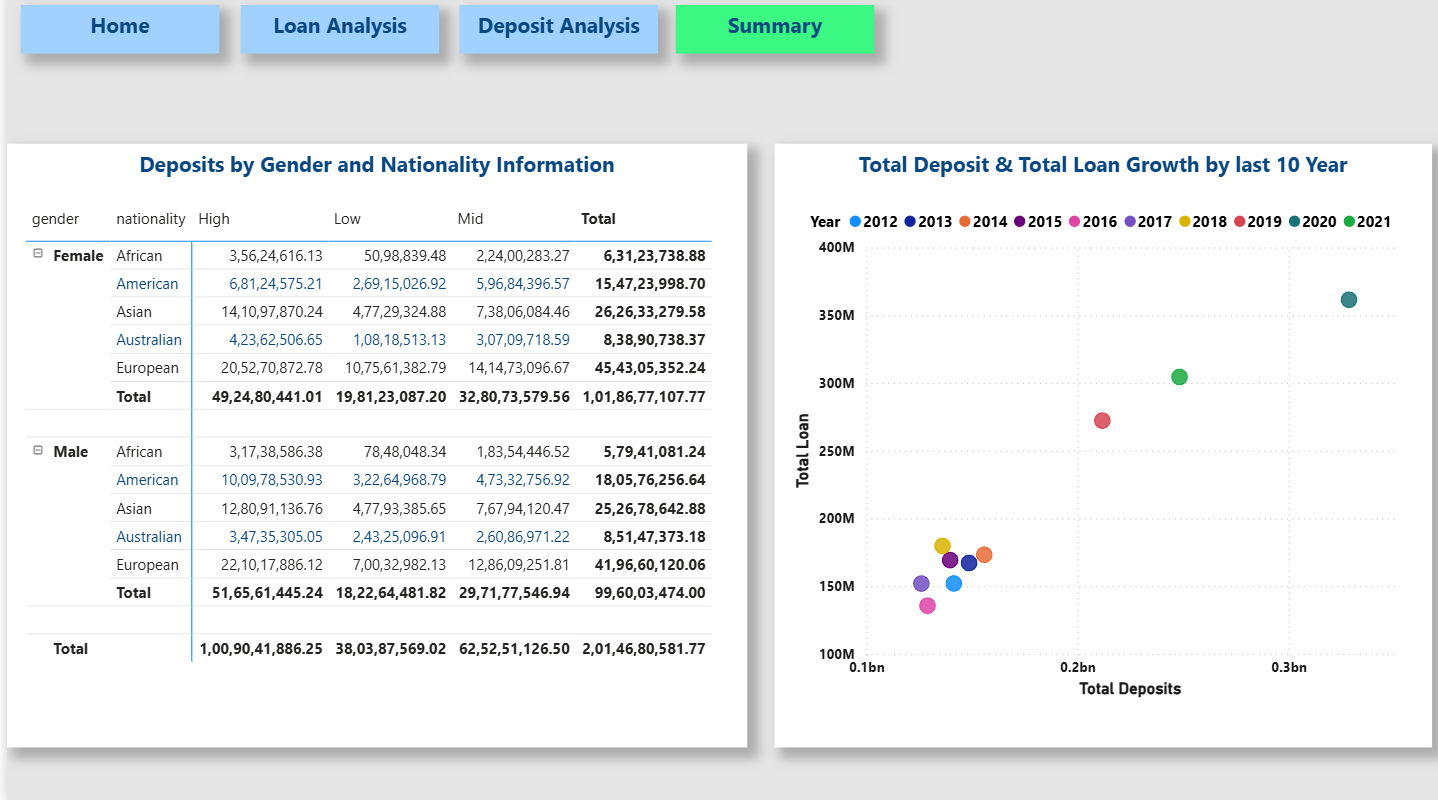

This screenshot's page, from the dashboard's own definition file:
{"tool":"powerbi","page":{"name":"Summary","canvas":[1280,720],"ordinal":3},"visuals":[{"type":"textbox","box":[0,132.5,658.9,537.4],"z":0},{"type":"pivotTable","fields":{"Rows":["public customer.gender","public customer.nationality"],"Values":["Sum(public customer.bank_deposits)"],"Columns":["public customer.fee_structure"]},"box":[12.3,181.6,634.4,476.1],"z":1000},{"type":"textbox","box":[683.4,132.5,585.3,537.4],"z":2000},{"type":"scatterChart","fields":{"X":["public customer.Total Deposits"],"Y":["public customer.Total Loan"],"Series":["public customer.joined_bank.Variation.Date Hierarchy.Year"]},"box":[695.7,181.6,562,449.1],"z":3000},{"type":"textbox","box":[12.3,8.6,176.7,42.9],"z":4000},{"type":"textbox","box":[208.6,8.6,176.7,42.9],"z":4001},{"type":"textbox","box":[402.5,8.6,176.7,42.9],"z":4002},{"type":"textbox","box":[595.1,8.6,176.7,42.9],"z":4003},{"type":"actionButton","box":[12.3,8.6,176.7,40.5],"z":4004},{"type":"actionButton","box":[208.6,8.6,176.7,40.5],"z":4005},{"type":"actionButton","box":[402.5,9.8,176.7,40.5],"z":4006}]}

Visuals, with their boxes in screenshot pixels (x1, y1, x2, y2), scaled from the page's 1280x720 canvas onto the 1438x800 screenshot:
textbox: [x1=0, y1=147, x2=740, y2=744]
pivotTable - public customer.gender x public customer.nationality: [x1=14, y1=202, x2=727, y2=731]
textbox: [x1=768, y1=147, x2=1425, y2=744]
scatterChart - public customer.Total Deposits x public customer.Total Loan: [x1=782, y1=202, x2=1413, y2=701]
textbox: [x1=14, y1=10, x2=212, y2=57]
textbox: [x1=234, y1=10, x2=433, y2=57]
textbox: [x1=452, y1=10, x2=651, y2=57]
textbox: [x1=669, y1=10, x2=867, y2=57]
actionButton: [x1=14, y1=10, x2=212, y2=55]
actionButton: [x1=234, y1=10, x2=433, y2=55]
actionButton: [x1=452, y1=11, x2=651, y2=56]
